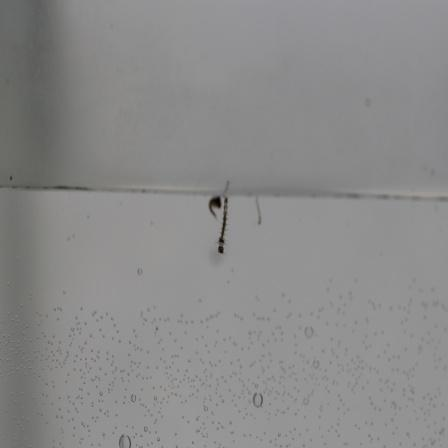Jentik-Nyamuk: (203, 194, 231, 257)
